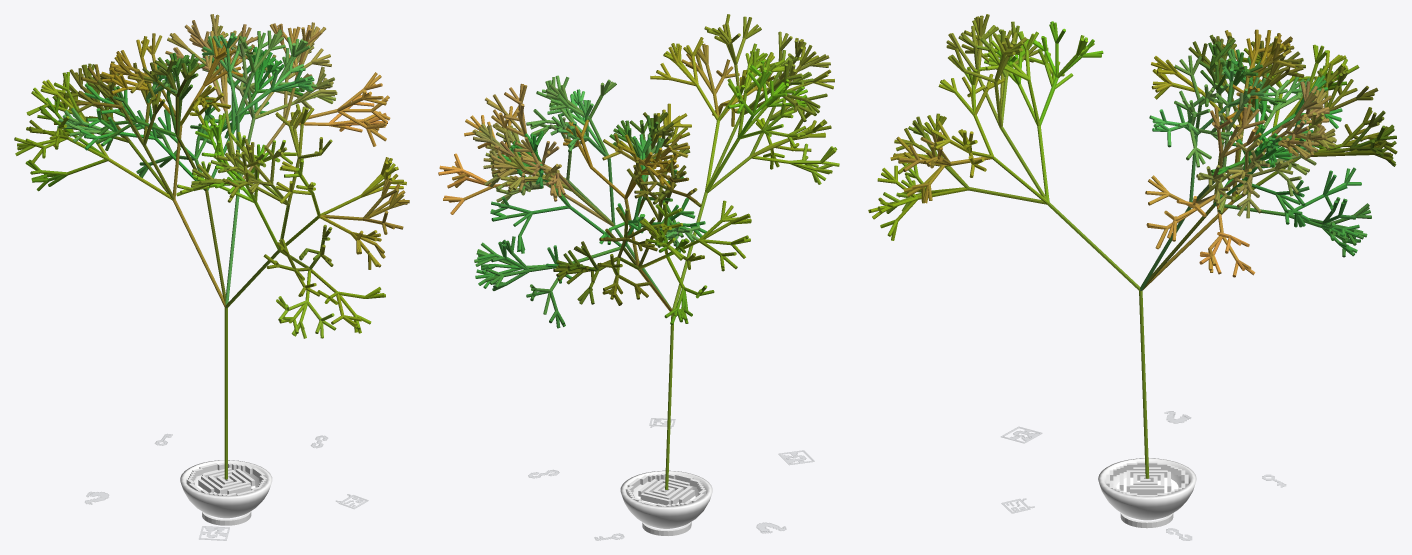
3 renders of one model, left to right at view 1: azimuth 30°, elevation 25°; view 2: azimuth 150°, elevation 25°; view 3: azimuth 270°, elevation 25°, orthographic. The views are drawn at different scales.
Visible parts, largest first — view 1: Cylinder.002, Plant Pot.001, Determination.001, 1-5.001; view 2: Cylinder.002, Plant Pot.001, Determination.001, 1-5.001; view 3: Cylinder.002, Plant Pot.001, Determination.001, 1-5.001.
Boxes of the visible parts, box(x1,y1,x2,y2) form: Cylinder.002: box(14, 14, 409, 479); Plant Pot.001: box(180, 460, 272, 518); Determination.001: box(186, 462, 267, 495); 1-5.001: box(85, 434, 368, 540); Cylinder.002: box(438, 14, 839, 489); Plant Pot.001: box(620, 470, 712, 528); Determination.001: box(625, 473, 706, 506); 1-5.001: box(528, 418, 814, 540); Cylinder.002: box(868, 14, 1397, 478); Plant Pot.001: box(1098, 458, 1196, 520); Determination.001: box(1106, 461, 1188, 496); 1-5.001: box(1001, 411, 1285, 540).
Bounding box in the file's own units: 7.15 × 9.52 × 9.36.
